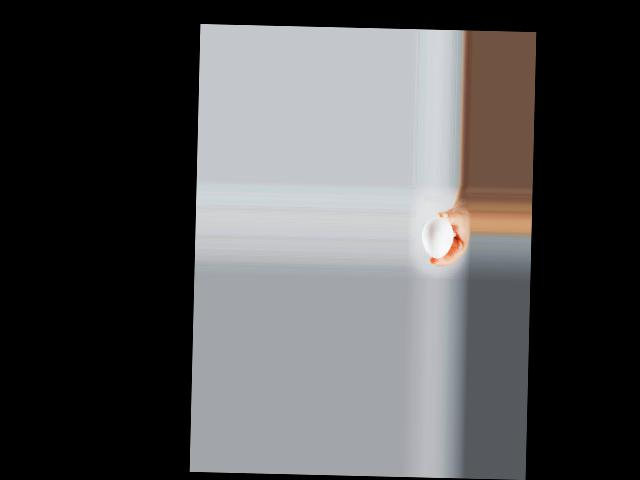egg: (421, 217, 454, 259)
